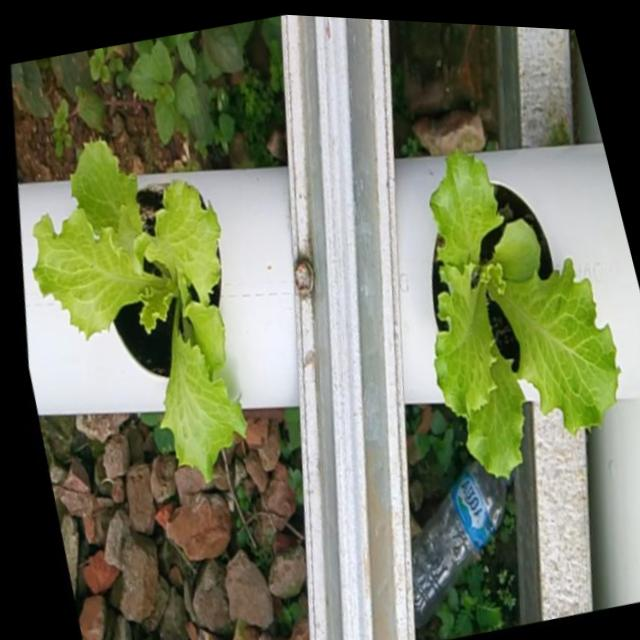Baby: (44, 145, 254, 482), (436, 155, 625, 482)
